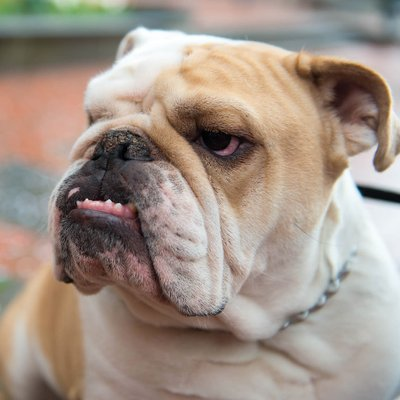dog: (2, 25, 400, 399)
